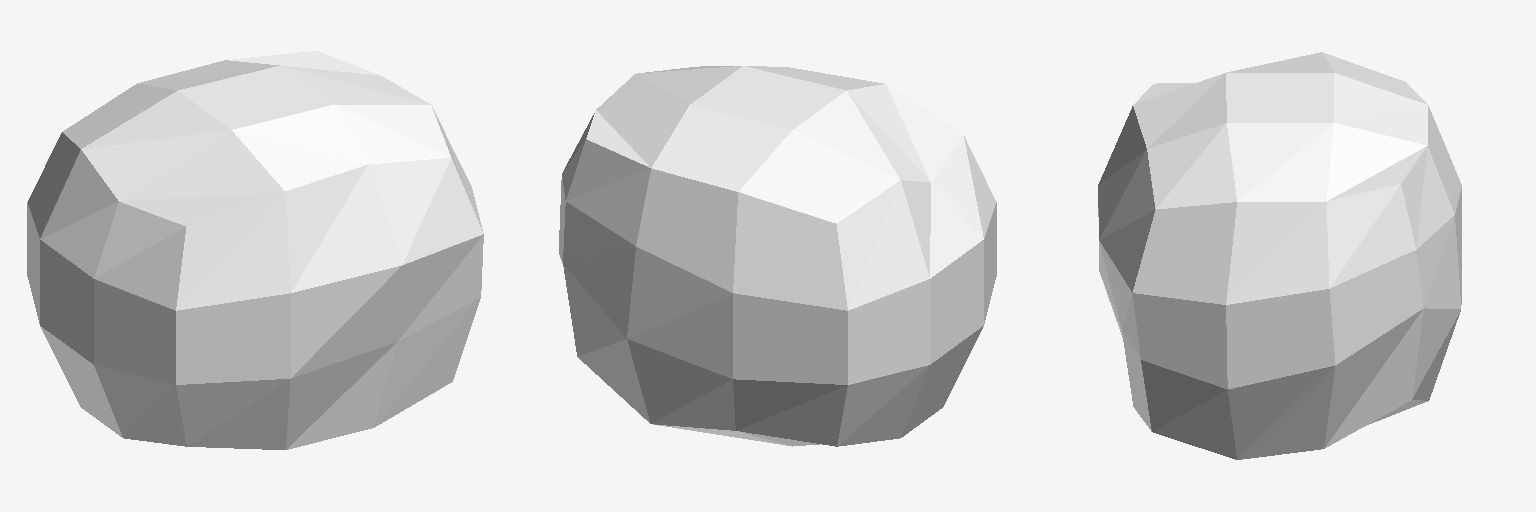
The model's file is rock5.obj.
The picture shows the model from 3 angles: view 1: azimuth 30°, elevation 25°; view 2: azimuth 150°, elevation 25°; view 3: azimuth 270°, elevation 25°; orthographic projection.
Visible parts, largest first — view 1: Cube_Cube.001; view 2: Cube_Cube.001; view 3: Cube_Cube.001.
Part boxes in pixels (left/top/right/bottom): Cube_Cube.001: left=27, top=51, right=483, bottom=449; Cube_Cube.001: left=559, top=66, right=996, bottom=446; Cube_Cube.001: left=1098, top=52, right=1461, bottom=459.
Bounding box in the file's own units: 1 × 0.8 × 0.8338.